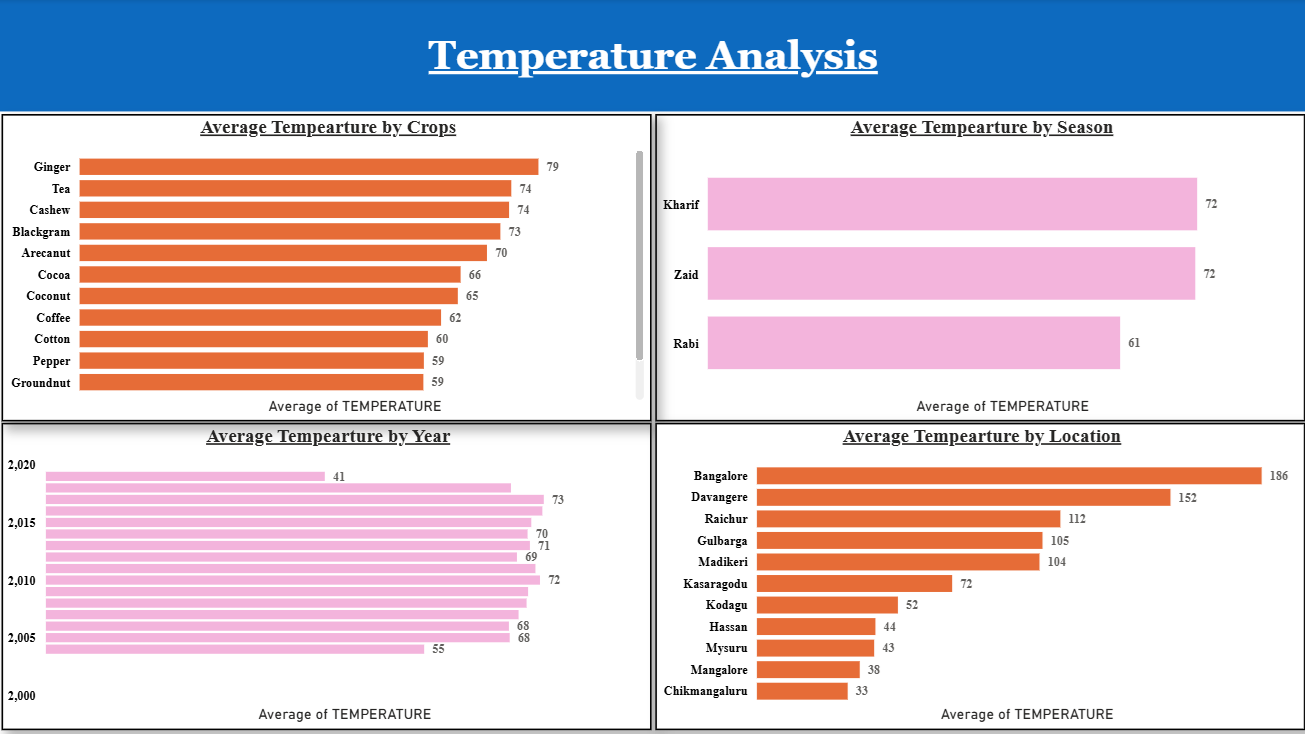

The dashboard page shown, as its layout file describes it:
{"tool":"powerbi","page":{"name":"Tempearture Analysis","canvas":[1280,720],"ordinal":1},"visuals":[{"type":"shape","box":[0,0,1280,110],"z":0},{"type":"barChart","title":"Average Tempearture by Year","fields":{"Category":["AGRICULTURE.YEAR"],"Y":["Avg(AGRICULTURE.TEMPERATURE)"]},"box":[2,415,636,301],"z":1000},{"type":"barChart","title":"Average Tempearture by Season","fields":{"Category":["AGRICULTURE.SEASON"],"Y":["Avg(AGRICULTURE.TEMPERATURE)"]},"box":[642,112,636,301],"z":2000},{"type":"barChart","title":"Average Tempearture by Crops","fields":{"Category":["AGRICULTURE.CROPS"],"Y":["Avg(AGRICULTURE.TEMPERATURE)"]},"box":[2,112,636,301],"z":3000},{"type":"barChart","title":"Average Tempearture by Location","fields":{"Category":["AGRICULTURE.LOCATION"],"Y":["Avg(AGRICULTURE.TEMPERATURE)"]},"box":[642,415,636,301],"z":4000}]}

Visuals, with their boxes in screenshot pixels (x1, y1, x2, y2), scaled from the page's 1280x720 canvas onto the 1305x734 screenshot:
shape: <bbox>0, 0, 1304, 112</bbox>
"Average Tempearture by Year" barChart: <bbox>2, 423, 650, 730</bbox>
"Average Tempearture by Season" barChart: <bbox>655, 114, 1303, 421</bbox>
"Average Tempearture by Crops" barChart: <bbox>2, 114, 650, 421</bbox>
"Average Tempearture by Location" barChart: <bbox>655, 423, 1303, 730</bbox>
